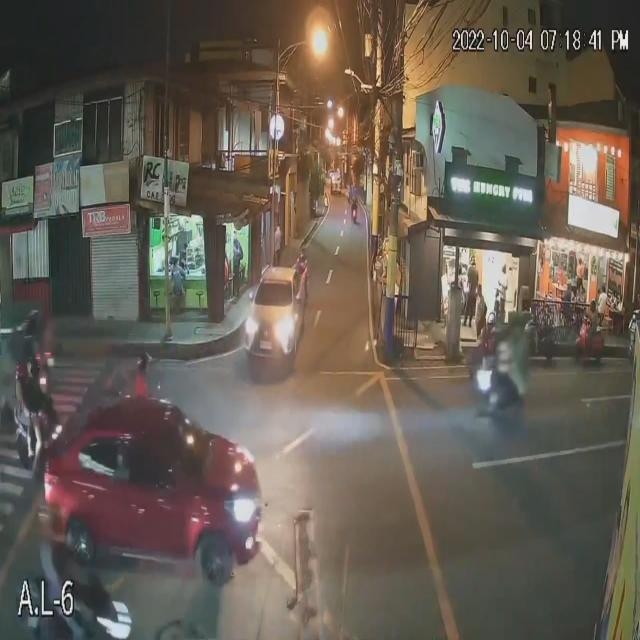Full-Faced: (12, 354, 30, 379), (28, 361, 43, 387)
Half-Faced: (130, 350, 153, 378)
